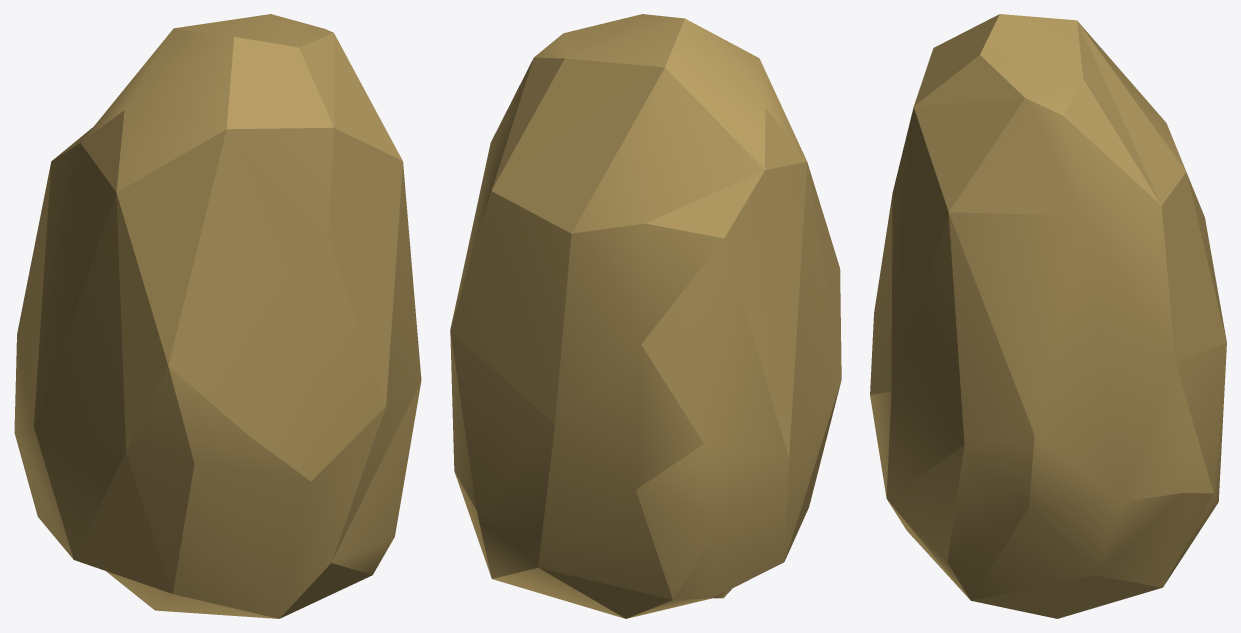
The model's file is a_z3_rock_l.fbx.
The picture shows the model from 3 angles, left to right: view 1: azimuth 30°, elevation 25°; view 2: azimuth 150°, elevation 25°; view 3: azimuth 270°, elevation 25°; orthographic projection. The views are drawn at different scales.
Parts seen in each view (by area): view 1: a_z3_rock_l; view 2: a_z3_rock_l; view 3: a_z3_rock_l.
Part boxes in pixels (x1=…): a_z3_rock_l: x1=14, y1=14, x2=421, y2=618; a_z3_rock_l: x1=450, y1=14, x2=841, y2=618; a_z3_rock_l: x1=870, y1=14, x2=1226, y2=618.
Size of the model in its own units: 214 by 347 by 202.
